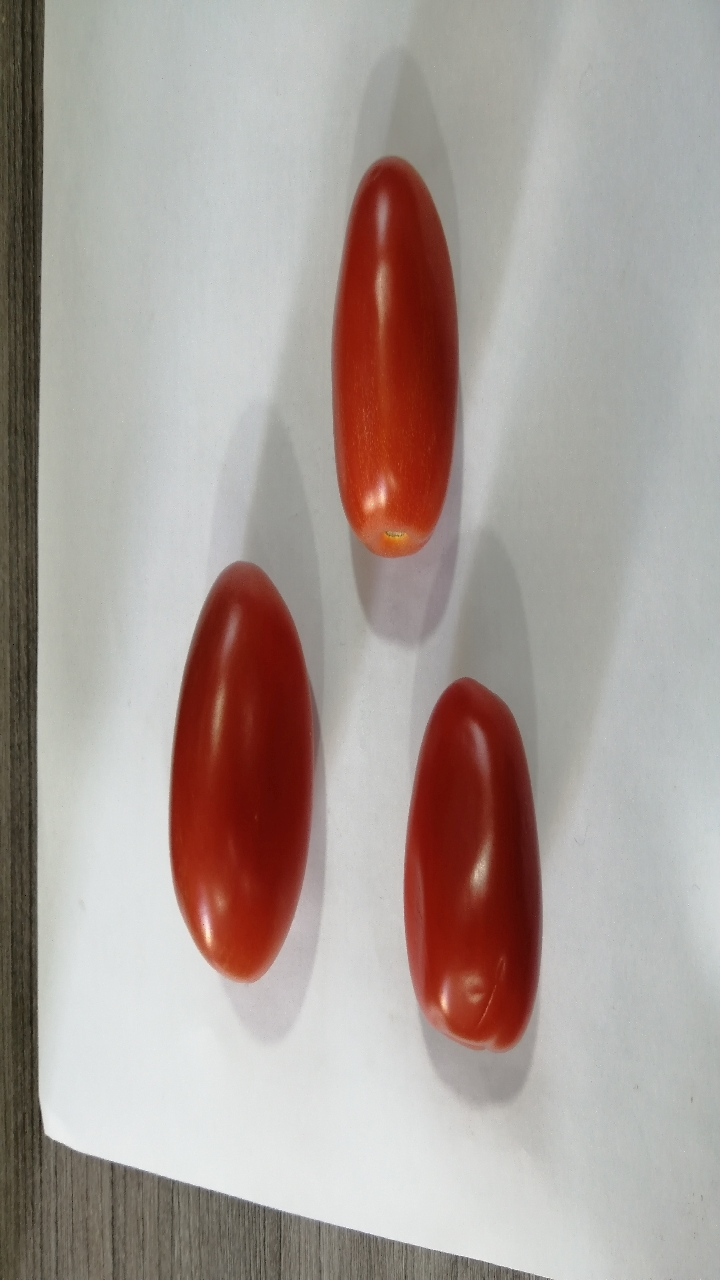tomateRojo: (129, 551, 331, 1002), (375, 655, 584, 1089), (312, 143, 508, 569)
